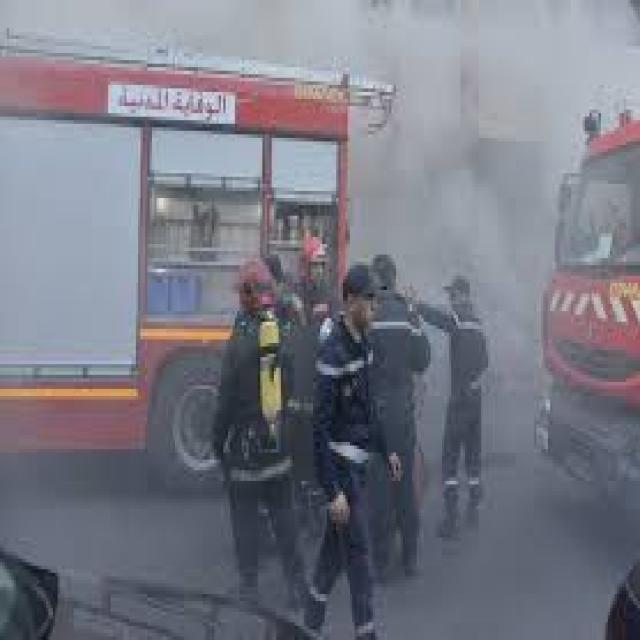emergency: (1, 42, 356, 520)
